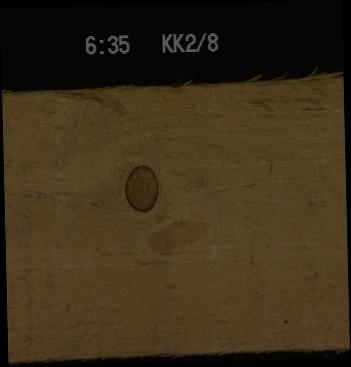dry_knot: (123, 164, 159, 212)
